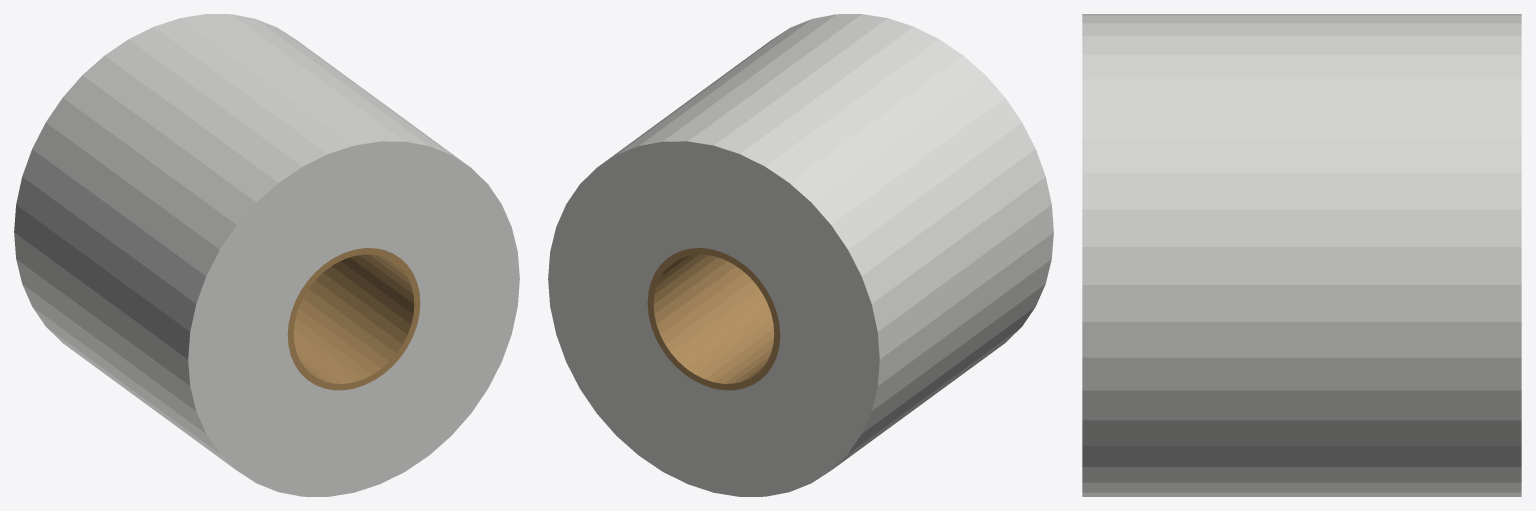
File: papel_higienico_rolo.obj
3 renders of one model, left to right at view 1: azimuth 30°, elevation 25°; view 2: azimuth 150°, elevation 25°; view 3: azimuth 270°, elevation 25°, orthographic. The views are drawn at different scales.
Parts seen in each view (by area): view 1: papel_higienico_rolo_papel, papel_higienico_rolo_tubete; view 2: papel_higienico_rolo_papel, papel_higienico_rolo_tubete; view 3: papel_higienico_rolo_papel.
Boxes of the visible parts, box(x1,y1,x2,y2) form: papel_higienico_rolo_papel: box(14, 14, 519, 496); papel_higienico_rolo_tubete: box(287, 248, 420, 390); papel_higienico_rolo_papel: box(548, 14, 1053, 496); papel_higienico_rolo_tubete: box(647, 248, 780, 390); papel_higienico_rolo_papel: box(1082, 14, 1521, 496).
Bounding box in the file's own units: 110 × 110 × 100.
